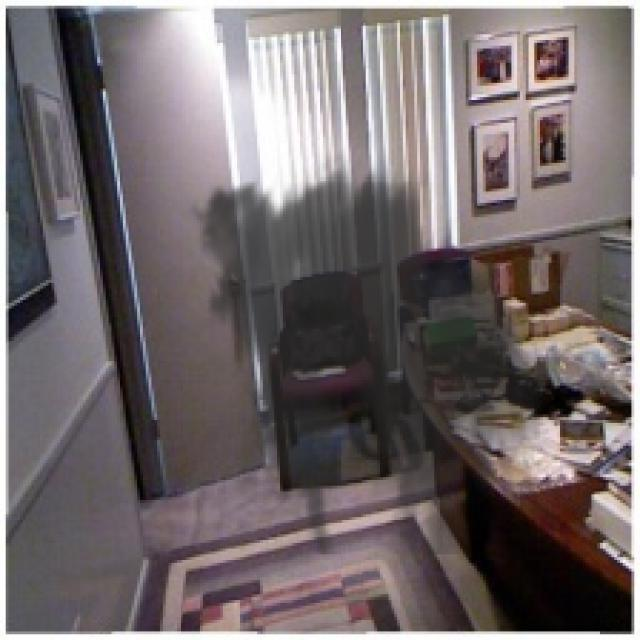Smoke: (180, 146, 563, 554)
